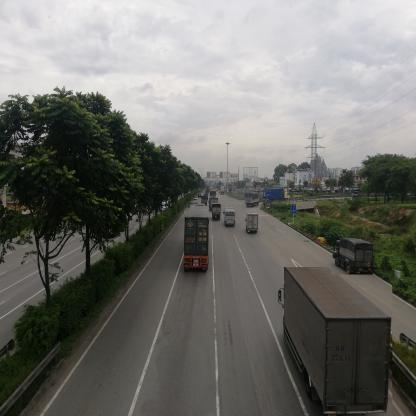bus: (224, 210, 236, 227)
car: (195, 198, 199, 205), (192, 202, 196, 208)
container: (185, 207, 210, 271), (268, 189, 291, 201)
truck: (285, 268, 394, 416), (332, 238, 374, 276), (247, 214, 259, 234), (247, 194, 261, 210), (213, 205, 222, 218), (210, 199, 219, 205)
